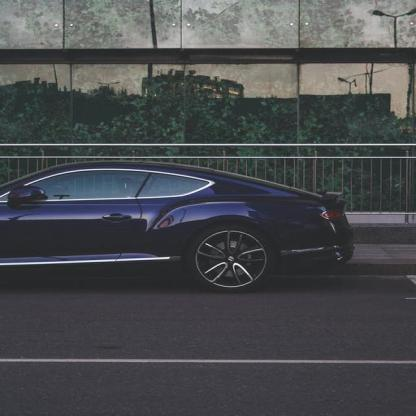Tire: (186, 222, 278, 294)
